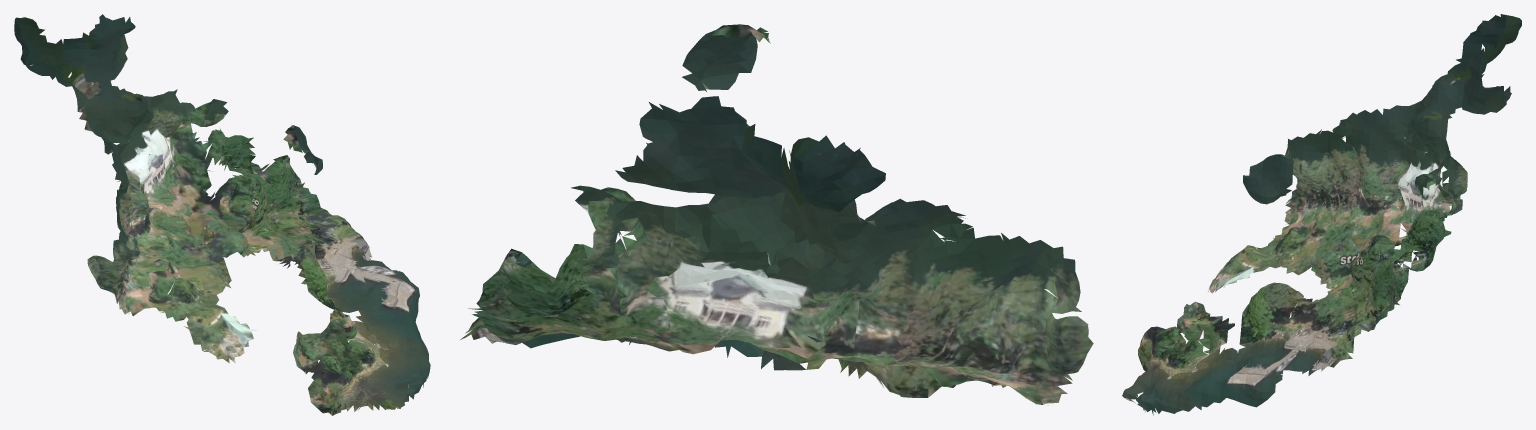
Rendered from stromso-delmodell.glb.
3 renders of one model, left to right at view 1: azimuth 30°, elevation 25°; view 2: azimuth 150°, elevation 25°; view 3: azimuth 270°, elevation 25°, orthographic. The views are drawn at different scales.
Visible parts, largest first — view 1: Reconstructed surface; view 2: Reconstructed surface; view 3: Reconstructed surface.
Part boxes in pixels (<box>): Reconstructed surface: <box>14,14,430,415</box>; Reconstructed surface: <box>460,24,1093,405</box>; Reconstructed surface: <box>1122,14,1521,415</box>.
Bounding box in the file's own units: 0.3774 × 0.3474 × 0.4223.
1 material, 1 textured.
